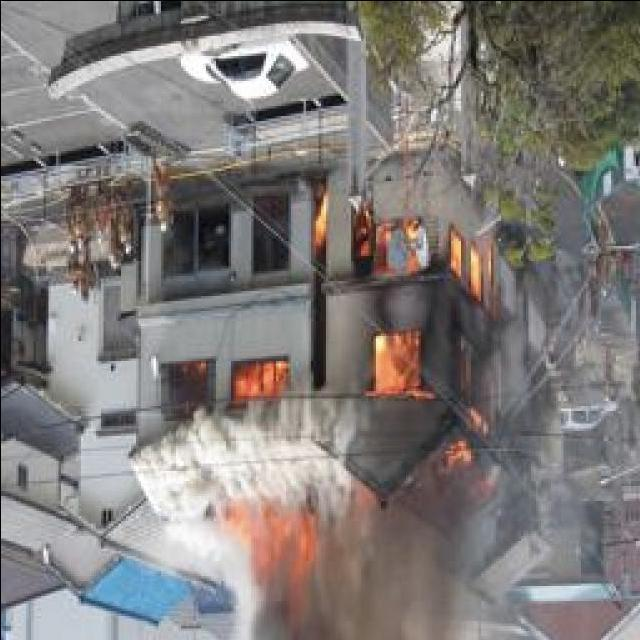Fire: (348, 201, 501, 456), (218, 498, 322, 610), (188, 358, 291, 402)
